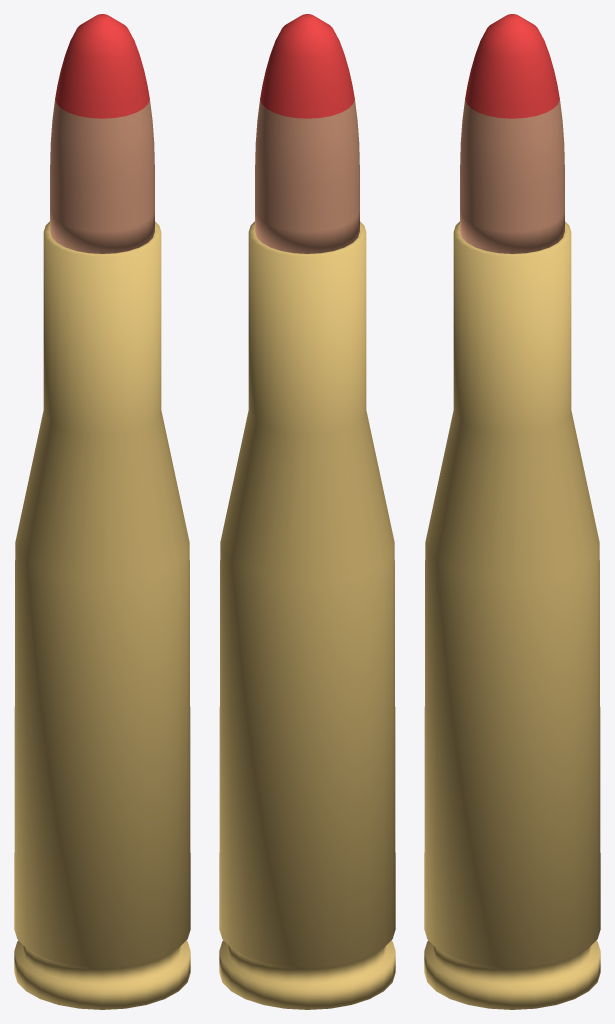
3 renders of one model, left to right at view 1: azimuth 30°, elevation 25°; view 2: azimuth 150°, elevation 25°; view 3: azimuth 270°, elevation 25°, orthographic.
Visible parts, largest first — view 1: vaina, bala_cuerpo, punta; view 2: vaina, bala_cuerpo, punta; view 3: vaina, bala_cuerpo, punta.
Part boxes in pixels (box(x1,y1,x2,y2)): vaina: box(14, 221, 190, 1009); bala_cuerpo: box(50, 99, 154, 253); punta: box(55, 14, 149, 118); vaina: box(219, 221, 395, 1009); bala_cuerpo: box(255, 99, 359, 253); punta: box(260, 14, 354, 118); vaina: box(424, 221, 600, 1009); bala_cuerpo: box(460, 99, 564, 253); punta: box(465, 14, 559, 118).
Size of the model in its own units: 0.0096 by 0.0574 by 0.0096.
